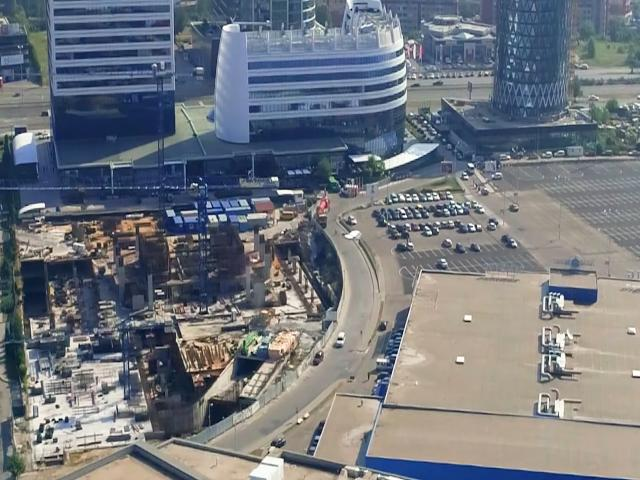plane: (340, 229, 362, 245)
